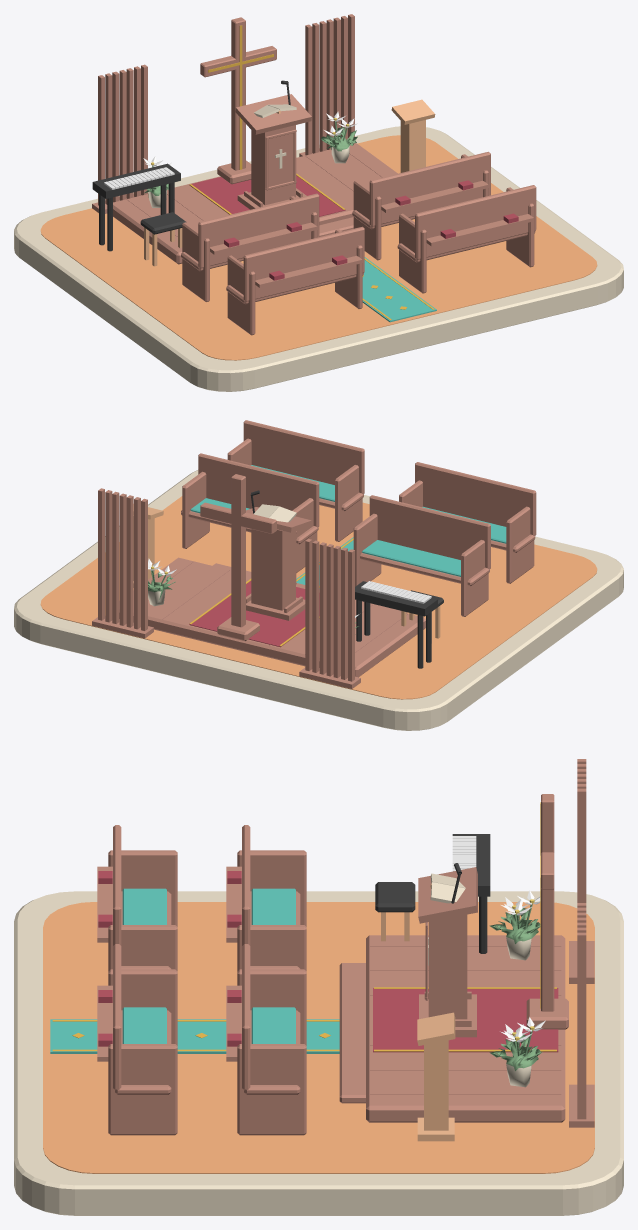
The picture shows the model from 3 angles, top to bottom: view 1: azimuth 30°, elevation 25°; view 2: azimuth 150°, elevation 25°; view 3: azimuth 270°, elevation 25°; orthographic projection. The views are drawn at different scales.
Visible parts, largest first — view 1: COM-02 Floor Surface, COM-01 Rounded Base Direct, Sanctuary platform, Back.002, Back.003, Back.001, Back, Body, Aisle runner, Stage carpet, Cross upright.001, Reading top (+32 smaller); view 2: COM-02 Floor Surface, COM-01 Rounded Base Direct, Sanctuary platform, Back.002, Back, Back.003, Back.001, Body, Stage carpet, Cross upright.001, Seat cushion, End panel.005 (+30 smaller); view 3: COM-02 Floor Surface, COM-01 Rounded Base Direct, Sanctuary platform, Stage carpet, End panel.002, End panel.006, Aisle runner, Body, Entry step, End panel.004, End panel, End panel.005 (+32 smaller).
Boxes of the visible parts, bbox=[...] form: COM-02 Floor Surface: bbox=[40, 135, 597, 360]; COM-01 Rounded Base Direct: bbox=[14, 126, 623, 391]; Sanctuary platform: bbox=[113, 143, 397, 264]; Back.002: bbox=[243, 226, 364, 301]; Back.003: bbox=[415, 185, 536, 259]; Back.001: bbox=[369, 151, 490, 226]; Back: bbox=[198, 193, 319, 268]; Body: bbox=[251, 125, 295, 205]; Aisle runner: bbox=[362, 257, 436, 322]; Stage carpet: bbox=[189, 175, 345, 216]; Cross upright.001: bbox=[231, 17, 245, 170]; Reading top: bbox=[235, 94, 311, 134]; COM-02 Floor Surface: bbox=[40, 496, 597, 699]; COM-01 Rounded Base Direct: bbox=[14, 470, 623, 730]; Sanctuary platform: bbox=[119, 557, 425, 677]; Back.002: bbox=[415, 462, 536, 535]; Back: bbox=[369, 495, 490, 569]; Back.003: bbox=[243, 420, 364, 494]; Back.001: bbox=[198, 453, 319, 527]; Body: bbox=[251, 529, 295, 610]; Stage carpet: bbox=[189, 581, 319, 647]; Cross upright.001: bbox=[231, 474, 245, 627]; Seat cushion: bbox=[362, 540, 460, 576]; End panel.005: bbox=[506, 506, 534, 583]; COM-02 Floor Surface: bbox=[43, 902, 594, 1173]; COM-01 Rounded Base Direct: bbox=[14, 891, 623, 1215]; Sanctuary platform: bbox=[366, 935, 565, 1122]; Stage carpet: bbox=[373, 988, 558, 1052]; End panel.002: bbox=[237, 1044, 306, 1135]; End panel.006: bbox=[108, 1044, 177, 1135]; Aisle runner: bbox=[50, 1019, 339, 1053]; Body: bbox=[428, 914, 467, 1019]; Entry step: bbox=[339, 963, 365, 1103]; End panel.004: bbox=[108, 925, 177, 971]; End panel: bbox=[237, 925, 306, 971]; End panel.005: bbox=[108, 850, 177, 926].
Bounding box in the file's own units: 6 × 2.56 × 5.2.
1 material, 1 textured.
